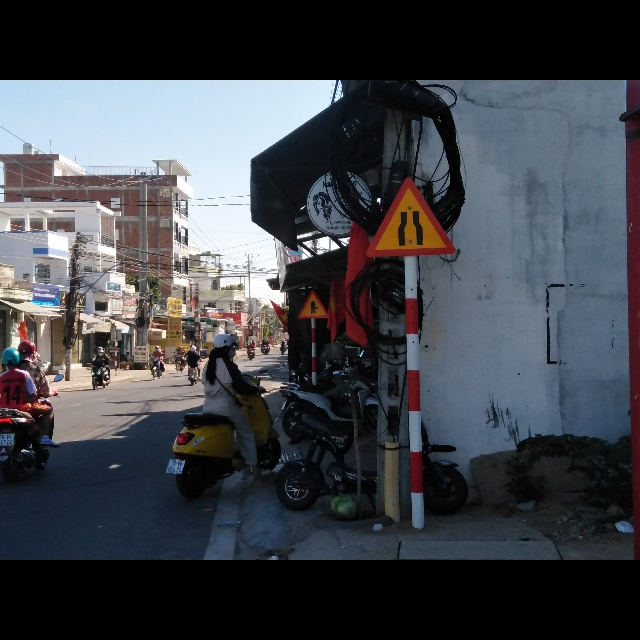Giao nhau với đường không ưu tiên: (295, 291, 328, 319)
Đường bị hẹp cả hai bên: (367, 177, 456, 259)
